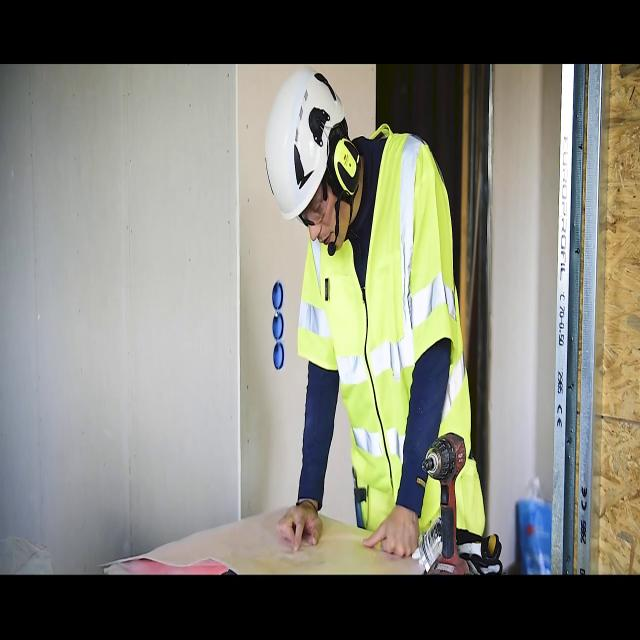earmuff: (326, 130, 364, 207)
glasses: (296, 186, 332, 233)
helmet: (262, 64, 347, 225)
